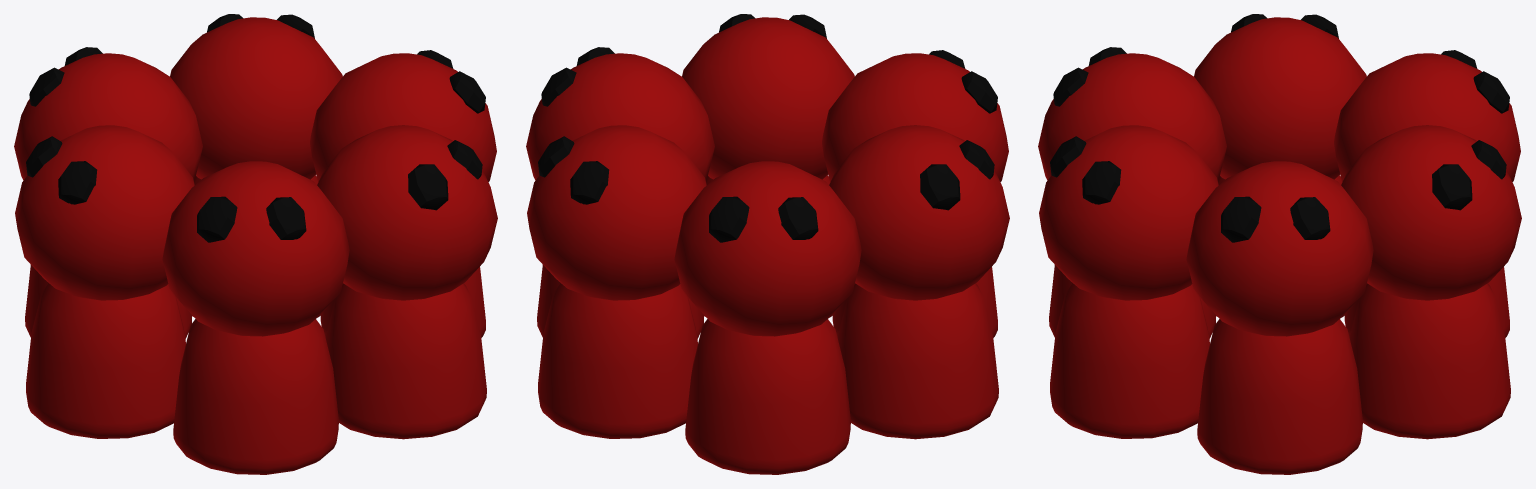
The model's file is stickman_full.fbx.
3 renders of one model, left to right at view 1: azimuth 30°, elevation 25°; view 2: azimuth 150°, elevation 25°; view 3: azimuth 270°, elevation 25°, orthographic.
Visible parts, largest first — view 1: stickman_full; view 2: stickman_full; view 3: stickman_full.
Part boxes in pixels (x1,y1,x2,y2): stickman_full: (14,14,497,474); stickman_full: (526,14,1009,474); stickman_full: (1038,14,1521,474).
Size of the model in its own units: 80.21 by 45.95 by 73.55.
